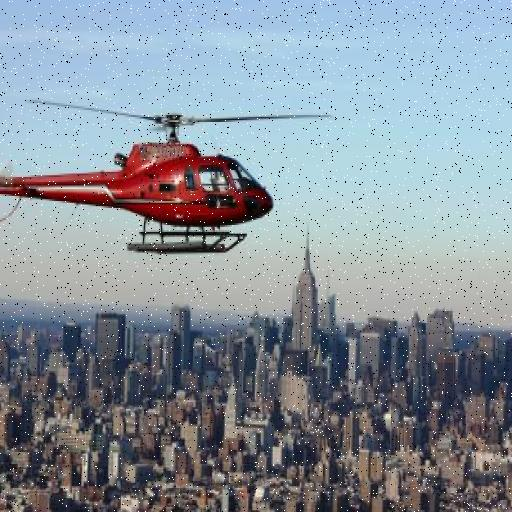helicopter: (1, 78, 338, 259)
